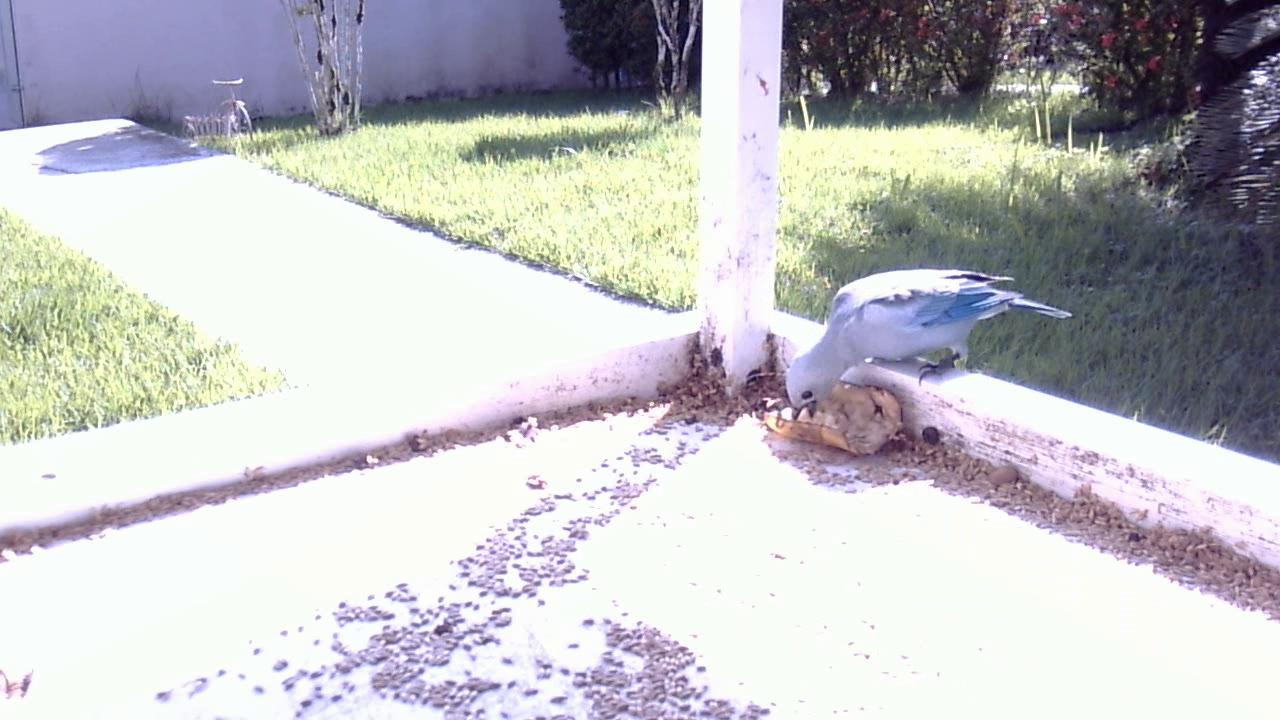sanhaco_da_amazonia: (781, 258, 1068, 425)
